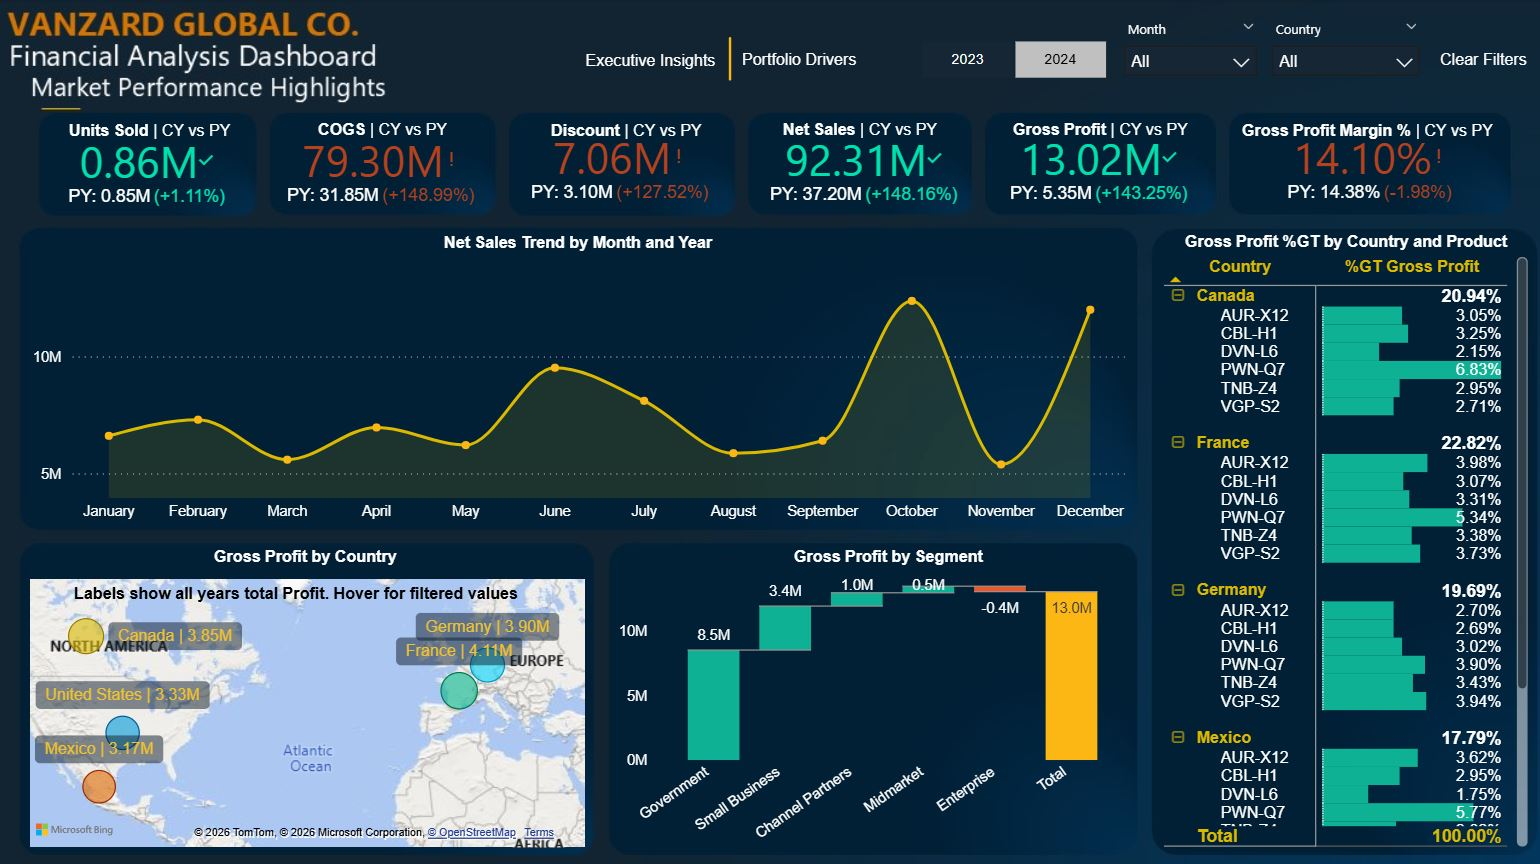

What the dashboard file says about the page in this screenshot:
{"tool":"powerbi","page":{"name":"Market Performance","canvas":[1280,720],"ordinal":1},"visuals":[{"type":"lineChart","fields":{"Y":["Analysis.Sales Amount"],"Category":["Date_Table.Month"]},"box":[24,204.4,917.3,235.6],"z":0},{"type":"textbox","box":[365.3,188.4,235.6,33.8],"z":1000},{"type":"textbox","box":[174.2,448.9,165.3,33.8],"z":2000},{"type":"textbox","box":[654.2,448.9,170.7,32.9],"z":3000},{"type":"textbox","box":[976.5,187.6,280,34.4],"z":4000},{"type":"pivotTable","fields":{"Rows":["Financials.Country","Financials.Product"],"Values":["Analysis Measures.Profit"]},"box":[960.9,208.9,311.1,497.8],"z":5000},{"type":"waterfallChart","fields":{"Y":["Analysis Measures.Profit"],"Category":["Financials.Segment"]},"box":[509.3,465.8,432,240.9],"z":6000},{"type":"group","id":"g1","title":"Group 1","box":[22.2,474.7,468.5,232],"z":7000},{"type":"slicer","fields":{"Values":["Financials.Country"]},"box":[1045.3,11.6,142.2,62.2],"z":8000},{"type":"slicer","fields":{"Values":["Time Intelligence.Year"]},"box":[739.6,28.4,201.8,43.6],"z":9000},{"type":"slicer","fields":{"Values":["Time Intelligence.Month"]},"box":[922.7,11.6,129.8,66.7],"z":10000},{"type":"actionButton","box":[1183.1,31.1,93.3,36.4],"z":11000},{"type":"actionButton","box":[607.1,27.6,112.9,45.3],"z":12000},{"type":"actionButton","box":[480.9,28.4,120,45.3],"z":13000},{"type":"shape","box":[588.4,31.1,36.4,36.4],"z":14000},{"type":"kpi","fields":{"TrendLine":["Date Table.Year"],"Indicator":["Analysis.Profit Margin"],"Goal":["Analysis Measures.KPI_PY Gross Profit Margin %"]},"box":[1019.6,103.8,232.9,68.4],"z":15000},{"type":"kpi","fields":{"TrendLine":["Date Table.Year"],"Indicator":["Analysis.Discount Offered"],"Goal":["Analysis Measures.KPI PY Discount"]},"box":[399.1,103.8,232.9,68.4],"z":16000},{"type":"textbox","box":[1025.8,95.8,222.2,30.2],"z":17000},{"type":"kpi","fields":{"TrendLine":["Date Table.Year"],"Indicator":["Analysis Measures.COGS"],"Goal":["Analysis Measures.KPI PY COGS"]},"box":[200.9,105.7,232.9,68.4],"z":18000},{"type":"textbox","box":[260.4,94.9,124.4,32.9],"z":19000},{"type":"cardVisual","fields":{"Data":["Analysis Measures.Period Note"]},"box":[232.9,144.9,168.9,48],"z":20000},{"type":"cardVisual","fields":{"Data":["Analysis Measures.Period Note"]},"box":[434.7,144,197.3,48],"z":21000},{"type":"cardVisual","fields":{"Data":["Analysis Measures.Period Note"]},"box":[1053,151.9,168.8,35.4],"z":22000},{"type":"kpi","fields":{"TrendLine":["Date Table.Year"],"Indicator":["Analysis.Orders"],"Goal":["Analysis Measures.KPI PY Units Sold"]},"box":[37.3,106.6,173.3,68.4],"z":23000},{"type":"textbox","box":[54.9,96.2,148.2,32.7],"z":24000},{"type":"kpi","fields":{"TrendLine":["Time Intelligence.Year"],"Indicator":["Analysis.Profit"],"Goal":["Analysis Measures.KPI_PY Gross Profit"]},"box":[795.4,103.9,232.9,68.4],"z":25000},{"type":"textbox","box":[835.6,94.9,155.6,32.9],"z":26000},{"type":"kpi","fields":{"Indicator":["Analysis.Sales Amount"],"TrendLine":["Date Table.Year"],"Goal":["Analysis Measures.KPI_PY Net Sales"]},"box":[601,104.8,232.9,68.4],"z":27000},{"type":"textbox","box":[645.3,94.9,149.3,32.9],"z":28000},{"type":"cardVisual","fields":{"Data":["Analysis Measures.Period Note"]},"box":[635.6,152.9,168.9,32],"z":29000},{"type":"cardVisual","fields":{"Data":["Analysis Measures.Period Note"]},"box":[828.4,152,168.9,32],"z":30000},{"type":"cardVisual","fields":{"Data":["Analysis Measures.Period Note"]},"box":[41.8,145.8,168.9,46.2],"z":31000},{"type":"map","fields":{"Y":["Avg(Financials.Country Latitude)"],"X":["Avg(Financials.Country Longitude)"],"Category":["Financials.Country Label"],"Size":["Analysis Measures.Profit"]},"box":[22.2,474.7,468.5,232],"z":31000,"group":"g1"},{"type":"textbox","box":[453.1,96.2,160.3,32.9],"z":32000},{"type":"textbox","box":[58.3,479.2,379.7,34.6],"z":32500,"group":"g1"}]}

Visuals, with their boxes in screenshot pixels (x1, y1, x2, y2), scaled from the page's 1280x720 canvas onto the 1540x864 screenshot:
lineChart - Analysis.Sales Amount x Date_Table.Month: crop(29, 245, 1133, 528)
textbox: crop(440, 226, 723, 267)
textbox: crop(210, 539, 408, 579)
textbox: crop(787, 539, 992, 578)
textbox: crop(1175, 225, 1512, 266)
pivotTable - Financials.Country x Financials.Product: crop(1156, 251, 1530, 848)
waterfallChart - Analysis Measures.Profit x Financials.Segment: crop(613, 559, 1133, 848)
"Group 1" group: crop(27, 570, 590, 848)
slicer - Financials.Country: crop(1258, 14, 1429, 89)
slicer - Time Intelligence.Year: crop(890, 34, 1133, 86)
slicer - Time Intelligence.Month: crop(1110, 14, 1266, 94)
actionButton: crop(1423, 37, 1536, 81)
actionButton: crop(730, 33, 866, 87)
actionButton: crop(579, 34, 723, 88)
shape: crop(708, 37, 752, 81)
kpi - Date Table.Year x Analysis.Profit Margin: crop(1227, 125, 1507, 207)
kpi - Date Table.Year x Analysis.Discount Offered: crop(480, 125, 760, 207)
textbox: crop(1234, 115, 1502, 151)
kpi - Date Table.Year x Analysis Measures.COGS: crop(242, 127, 522, 209)
textbox: crop(313, 114, 463, 153)
cardVisual - Analysis Measures.Period Note: crop(280, 174, 483, 231)
cardVisual - Analysis Measures.Period Note: crop(523, 173, 760, 230)
cardVisual - Analysis Measures.Period Note: crop(1267, 182, 1470, 225)
kpi - Date Table.Year x Analysis.Orders: crop(45, 128, 253, 210)
textbox: crop(66, 115, 244, 155)
kpi - Time Intelligence.Year x Analysis.Profit: crop(957, 125, 1237, 207)
textbox: crop(1005, 114, 1193, 153)
kpi - Analysis.Sales Amount x Date Table.Year: crop(723, 126, 1003, 208)
textbox: crop(776, 114, 956, 153)
cardVisual - Analysis Measures.Period Note: crop(765, 183, 968, 222)
cardVisual - Analysis Measures.Period Note: crop(997, 182, 1200, 221)
cardVisual - Analysis Measures.Period Note: crop(50, 175, 253, 230)
map - Avg(Financials.Country Latitude) x Avg(Financials.Country Longitude): crop(27, 570, 590, 848)
textbox: crop(545, 115, 738, 155)
textbox: crop(70, 575, 527, 617)
